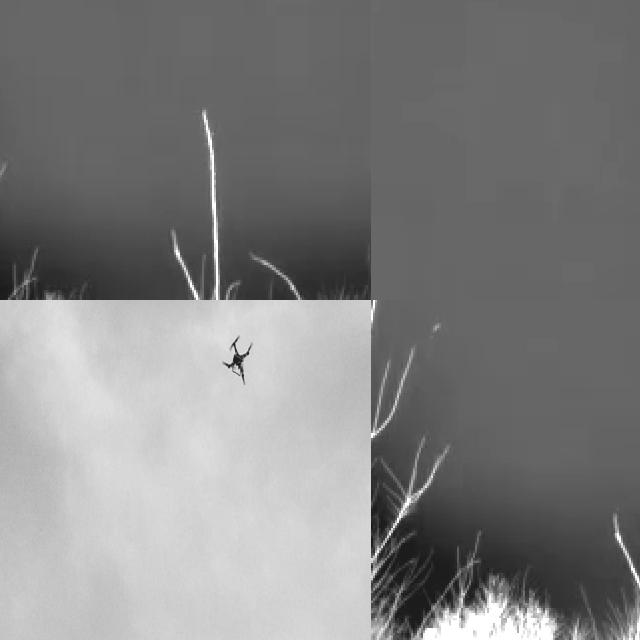0: (426, 313, 448, 343)
drone: (224, 338, 258, 388)
